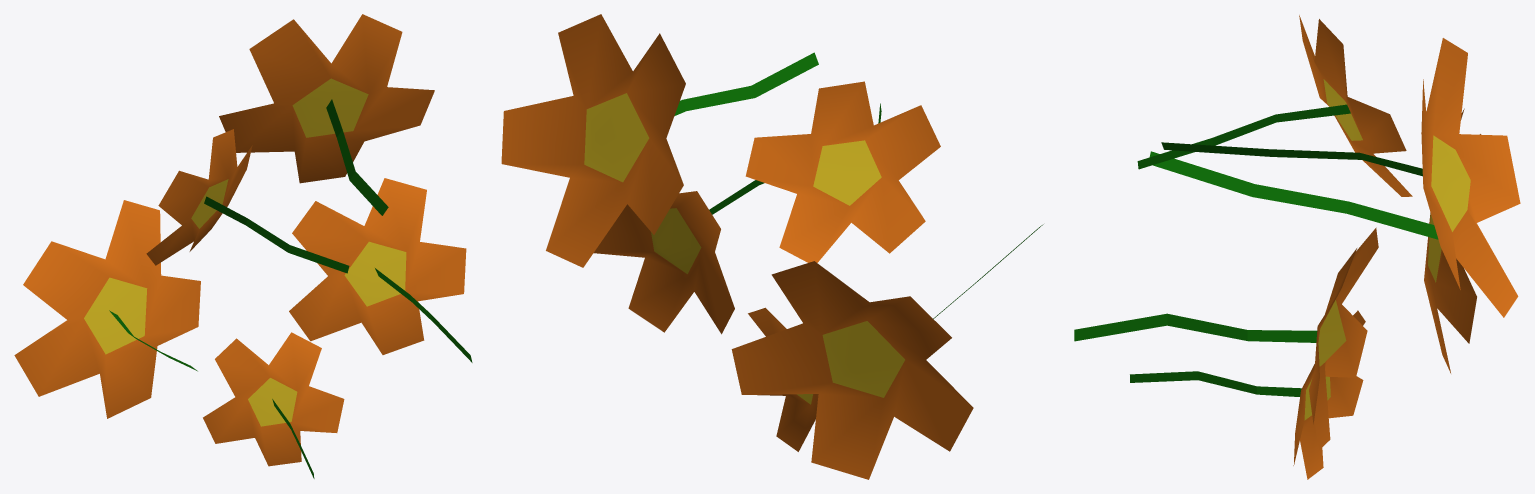
Rendered from floare4.fbx.
3 views of the same model, side by side, from view 1: azimuth 30°, elevation 25°; view 2: azimuth 150°, elevation 25°; view 3: azimuth 270°, elevation 25° (orthographic). The views are drawn at different scales.
Parts seen in each view (by area): view 1: Flowers 3; view 2: Flowers 3; view 3: Flowers 3.
Part boxes in pixels (x1=…): Flowers 3: x1=14, y1=14, x2=472, y2=478; Flowers 3: x1=501, y1=14, x2=1043, y2=479; Flowers 3: x1=1074, y1=15, x2=1520, y2=479.
Bounding box in the file's own units: 62.11 × 55.44 × 47.27.
